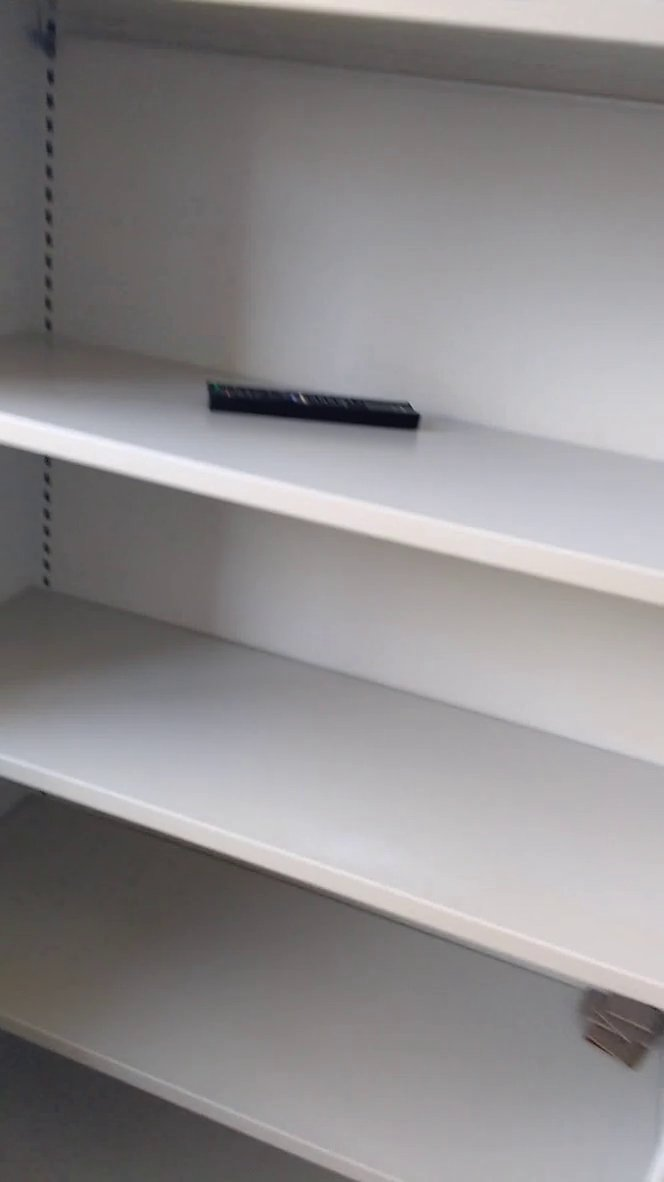remote: (198, 372, 427, 445)
